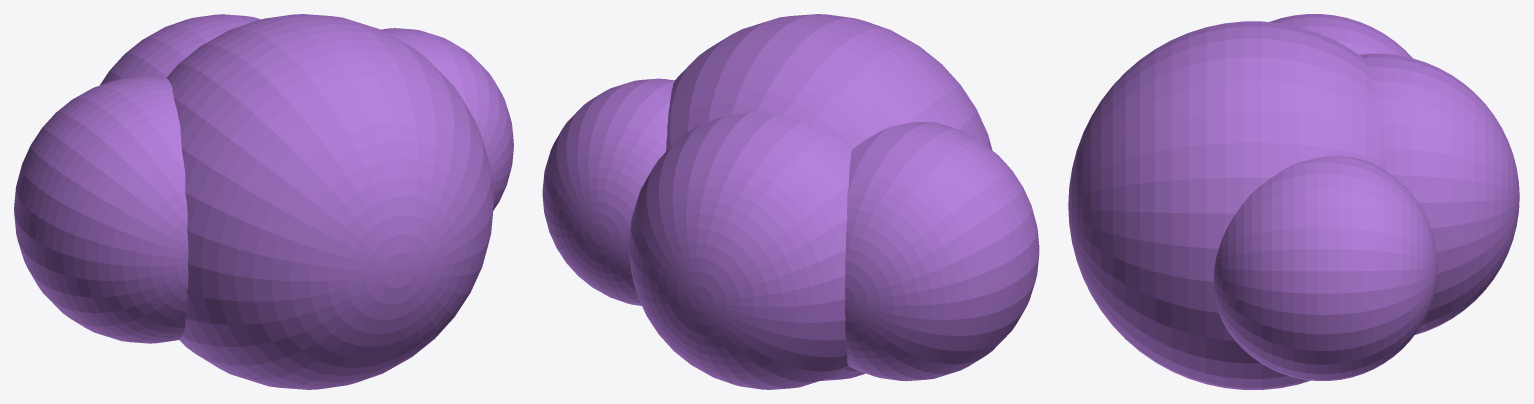
The model's file is obstacle_fud_fog_cloud.glb.
3 views of the same model, side by side, from view 1: azimuth 30°, elevation 25°; view 2: azimuth 150°, elevation 25°; view 3: azimuth 270°, elevation 25° (orthographic). The views are drawn at different scales.
Parts seen in each view (by area): view 1: fog_1, fog_0, fog_2, fog_3; view 2: fog_3, fog_0, fog_1, fog_2; view 3: fog_1, fog_2, fog_3, fog_0.
Boxes of the visible parts, <box> form: fog_1: <box>166,14,493,389</box>; fog_0: <box>14,76,188,343</box>; fog_2: <box>381,28,513,210</box>; fog_3: <box>100,14,260,85</box>; fog_3: <box>629,112,851,389</box>; fog_0: <box>845,121,1039,381</box>; fog_1: <box>666,14,992,380</box>; fog_2: <box>542,78,674,305</box>; fog_1: <box>1068,21,1386,389</box>; fog_2: <box>1214,155,1437,380</box>; fog_3: <box>1359,53,1519,334</box>; fog_0: <box>1269,14,1412,58</box>.
Size of the model in its own units: 1.3 by 0.8988 by 1.1.
